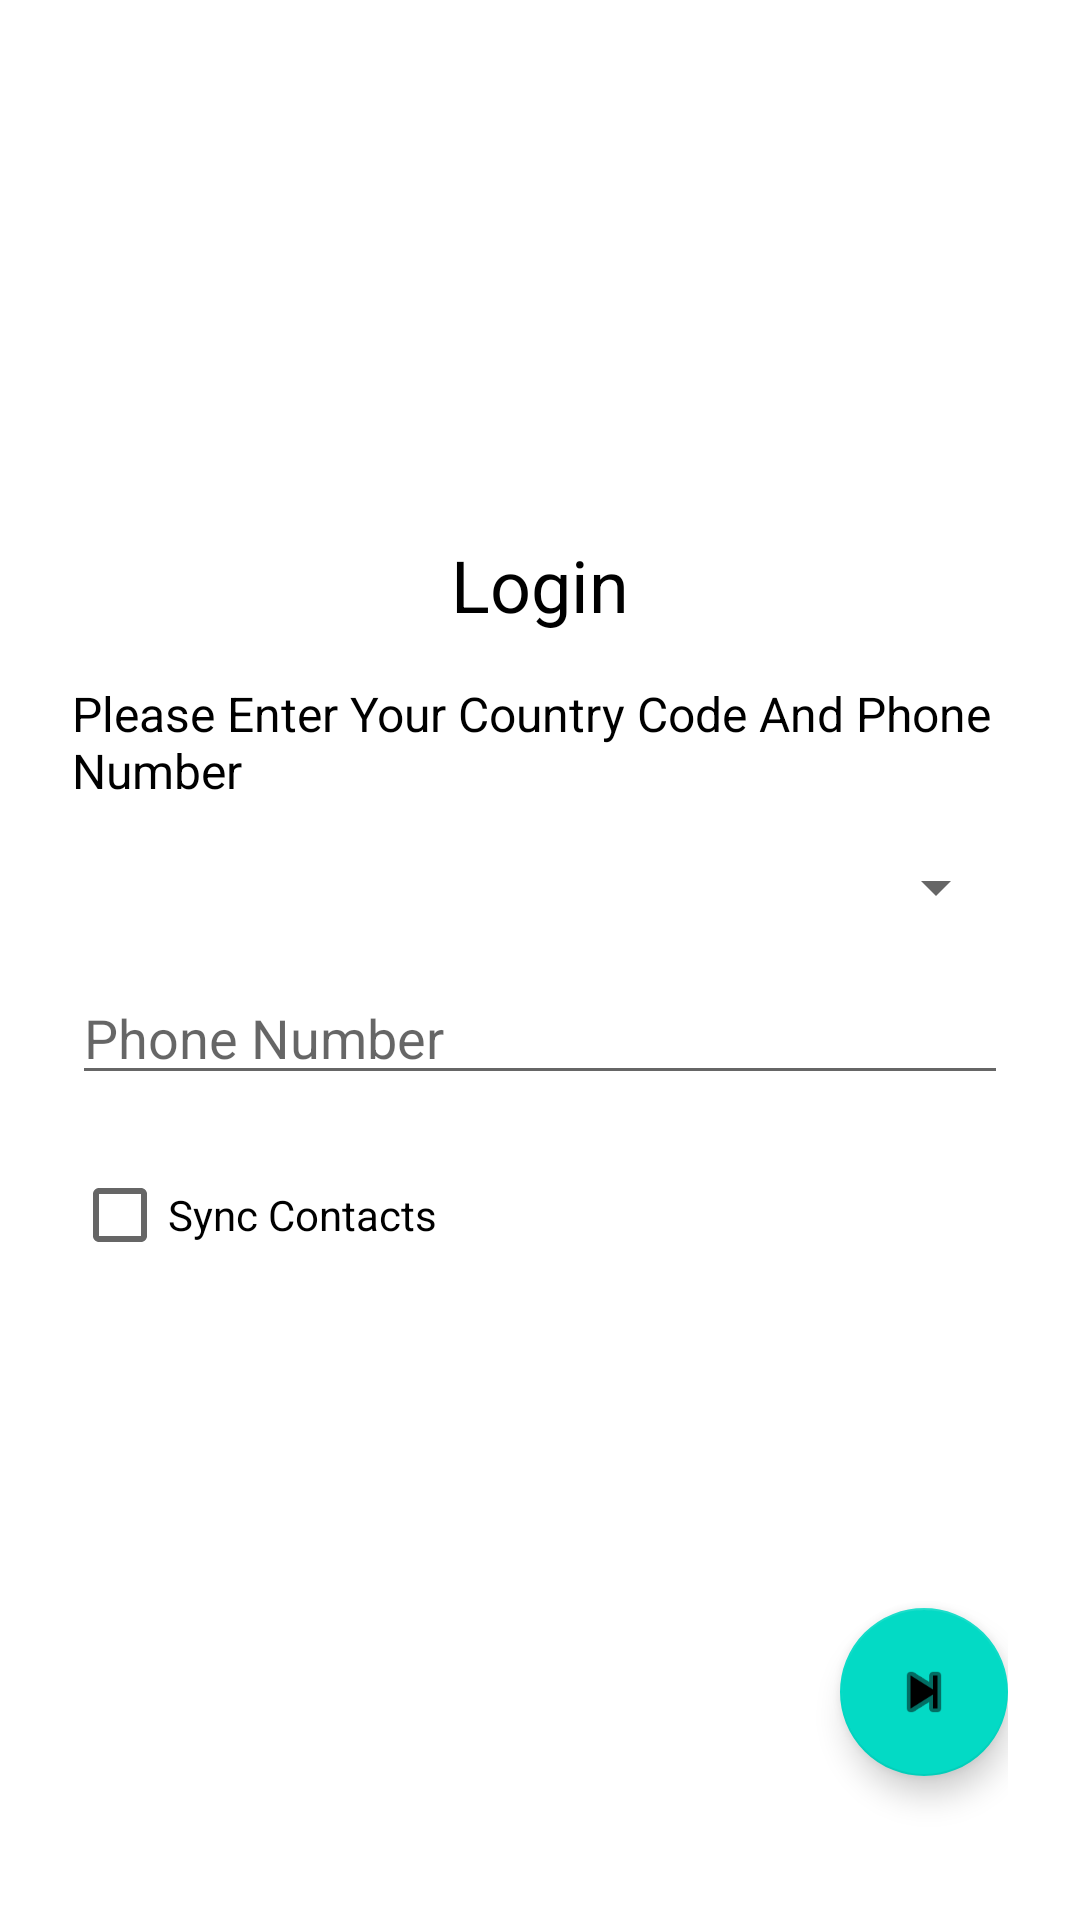

Screen size 1080*1920. Icon name, then its box in pixels as (x1, y1, x2, y2):
Next: (840, 1608, 1008, 1776)
